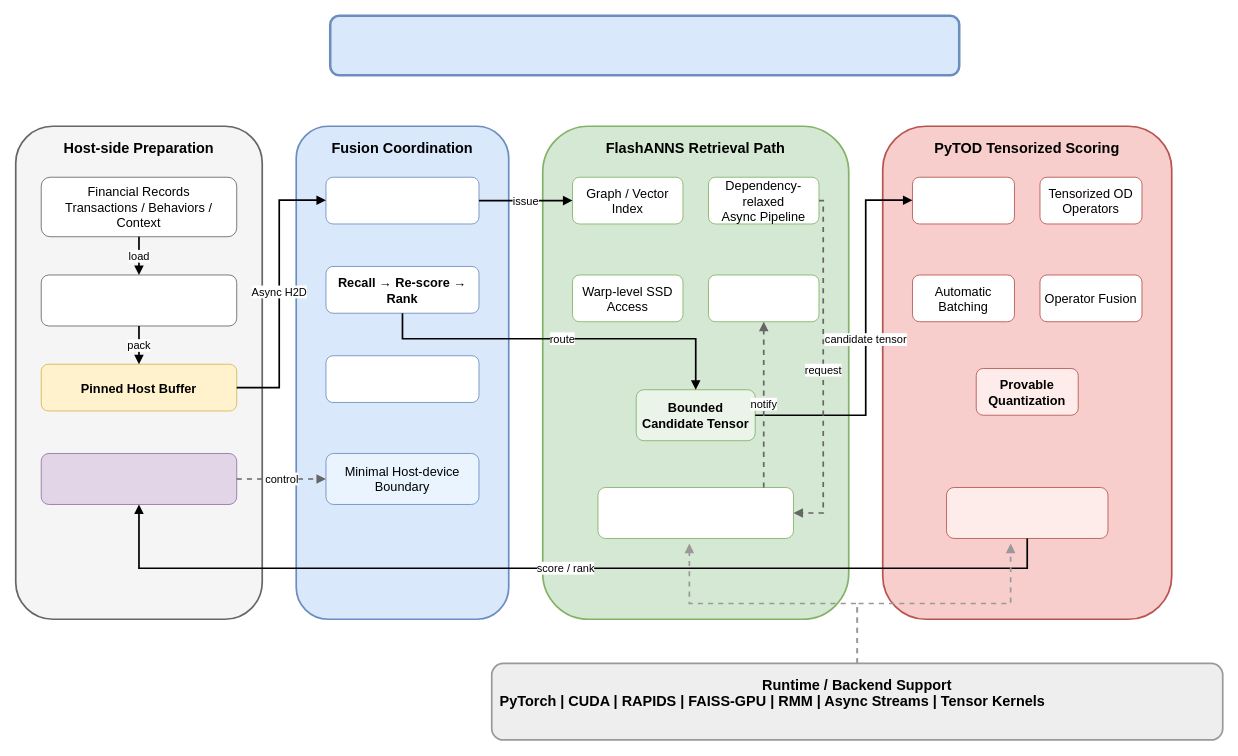
The diagram is 1238 pixels wide and 756 high, and some of its shapes have lost their labels. The shapes that lost their labels are listed below. From the top down, each one's centre as x and y in pixels, then its label:
At (644,45): "Pytod-flashanns Technical Route".
At (402,200): "Query Tensor Organization".
At (963,200): "BTO / FO Abstraction".
At (138,300): "Schema Align / Feature Packing".
At (763,298): "Double Buffer A / B".
At (402,378): "Candidate Tensor Routing".
At (138,478): "Control / Logging / Final D2H".
At (695,512): "CPU-managed I/O Queue + Completion Signals".
At (1027,512): "Score Tensor / Risk Ranking".
